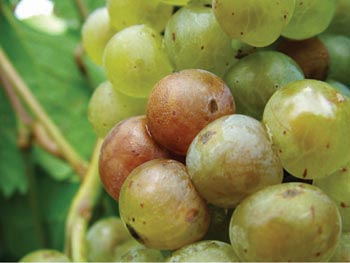Green grapes: (256, 79, 350, 178)
